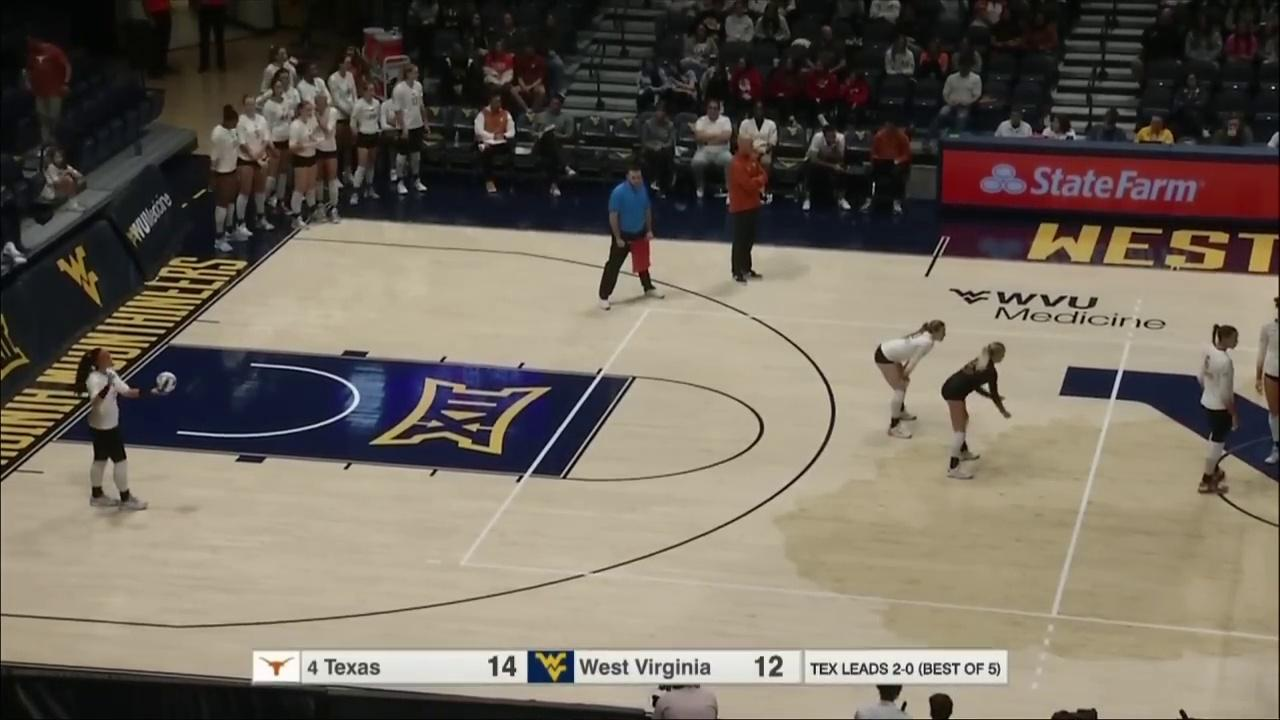player: (79, 349, 165, 511), (941, 342, 1012, 480), (875, 319, 946, 439), (1196, 325, 1238, 495), (1255, 293, 1280, 465)
refree: (598, 167, 667, 311)
